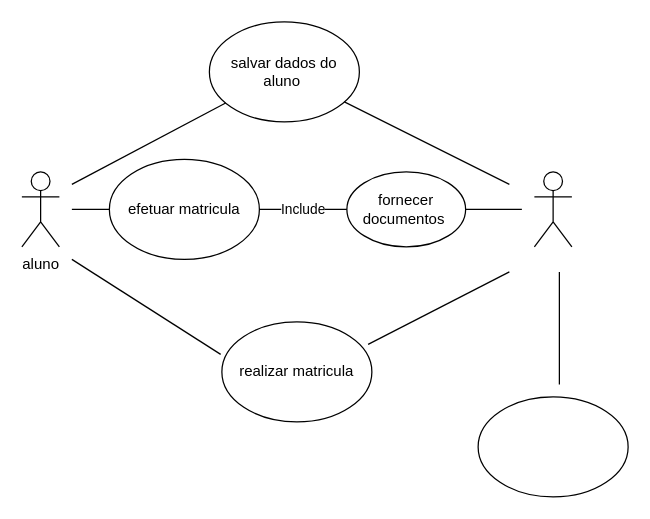
The diagram is 650 pixels wide and 519 high, and some of its shapes have lost their labels. The shapes that lost their labels are listed below. From the top down, each one's centre as x and y in pixels, then its label:
pixel 552 209: secretaria
pixel 552 446: consultar aluno
